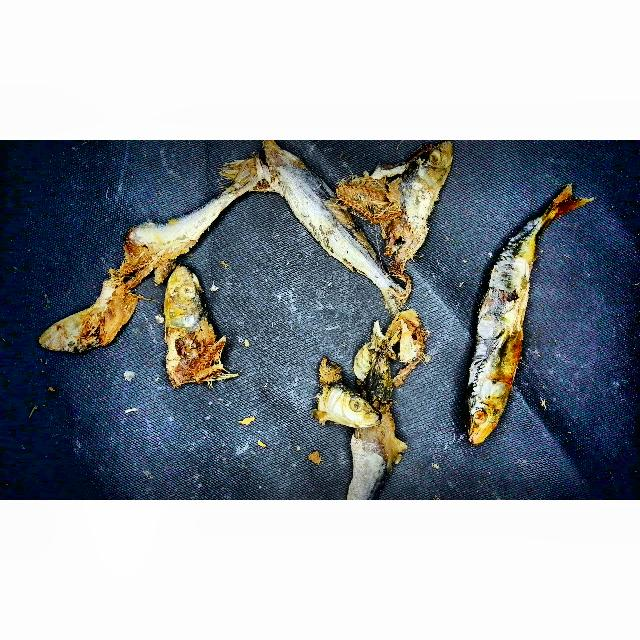Rejected_Body: (264, 144, 378, 274), (337, 141, 455, 263), (462, 239, 544, 377), (120, 192, 230, 271), (344, 413, 416, 499)
Rejected_Head: (159, 266, 241, 395), (34, 274, 136, 362), (351, 310, 440, 383), (300, 368, 385, 435), (456, 368, 513, 447)
Rejected_Tail: (537, 181, 597, 225)
